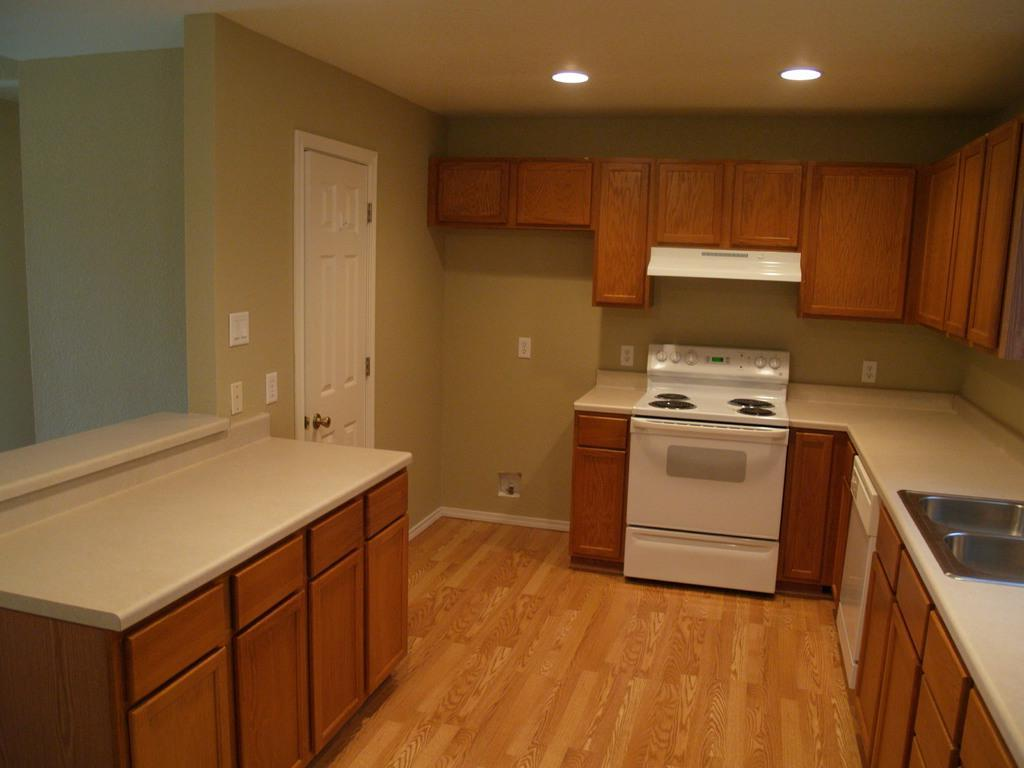door: (307, 166, 373, 436)
handle: (316, 407, 338, 432)
